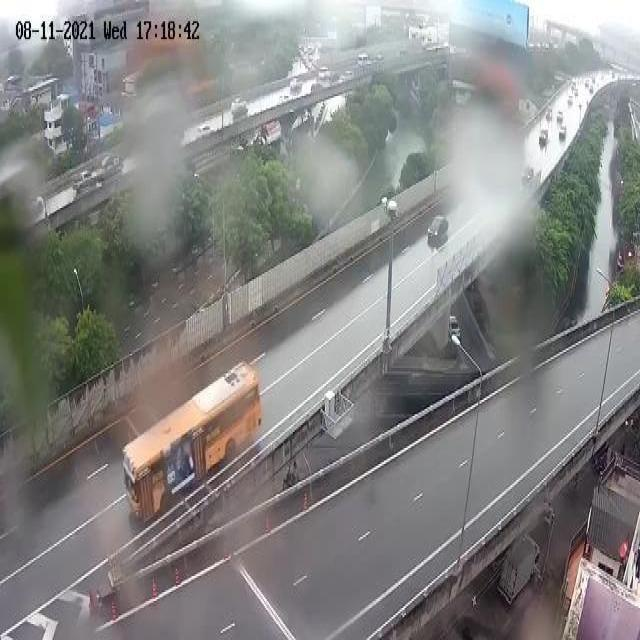Bus: (115, 352, 263, 519)
Car: (83, 152, 120, 187), (223, 88, 252, 119), (430, 215, 450, 259), (529, 124, 551, 157), (196, 119, 215, 143), (557, 113, 571, 141)
